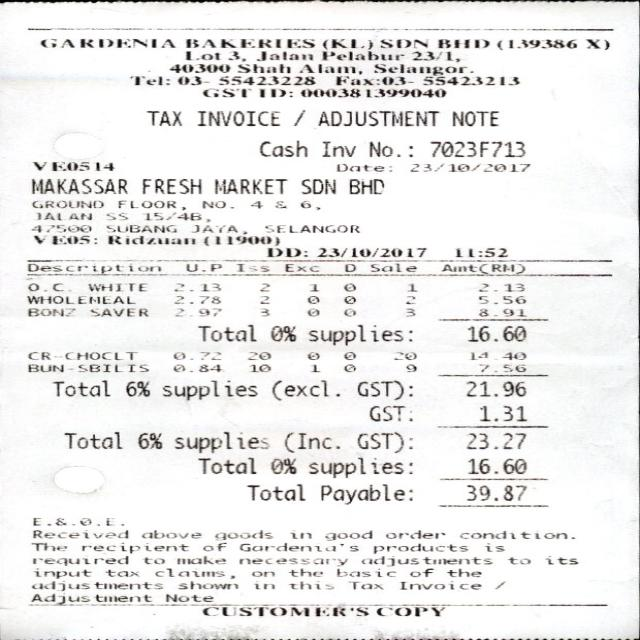text: (306, 324, 411, 344), (306, 457, 411, 476), (160, 379, 255, 399), (172, 431, 266, 451), (316, 110, 438, 125), (320, 482, 411, 502), (200, 606, 369, 616), (172, 73, 314, 84), (31, 177, 127, 193), (428, 140, 522, 156), (300, 87, 444, 97), (182, 35, 312, 46), (270, 379, 338, 399), (38, 36, 172, 46), (28, 262, 159, 272), (360, 555, 490, 565), (31, 580, 161, 590), (197, 110, 278, 125), (408, 161, 528, 171), (374, 62, 472, 74), (213, 178, 285, 194), (354, 431, 411, 451), (314, 247, 426, 257), (30, 593, 152, 602), (357, 379, 411, 399), (80, 542, 187, 552), (284, 432, 337, 452), (246, 482, 304, 500), (166, 60, 230, 76), (197, 324, 255, 341), (24, 294, 133, 303), (236, 542, 358, 550), (64, 430, 121, 447), (464, 380, 524, 396), (464, 432, 524, 448), (49, 379, 108, 395), (140, 177, 198, 193), (466, 457, 524, 473), (466, 484, 524, 500), (236, 557, 346, 565), (421, 75, 518, 84), (466, 325, 524, 340), (197, 457, 255, 472), (496, 38, 575, 49), (27, 351, 135, 359), (31, 528, 126, 537), (31, 555, 126, 564), (377, 604, 448, 616), (372, 543, 466, 552), (27, 364, 146, 371), (320, 50, 402, 60), (31, 160, 112, 170), (458, 530, 572, 537), (155, 567, 233, 577), (257, 139, 305, 155), (31, 516, 122, 524), (106, 235, 193, 243), (335, 75, 412, 84), (450, 110, 496, 125), (478, 405, 524, 420), (202, 235, 278, 244), (262, 224, 356, 231), (144, 211, 208, 221), (298, 63, 360, 73), (452, 246, 505, 257), (213, 529, 270, 539), (31, 234, 94, 243), (399, 581, 480, 588), (367, 405, 402, 421), (256, 50, 311, 60), (320, 140, 354, 156), (300, 178, 334, 194), (321, 36, 366, 48), (438, 37, 492, 47), (144, 110, 180, 125), (349, 177, 382, 193), (118, 200, 184, 208), (88, 307, 146, 316), (235, 62, 287, 72), (473, 307, 525, 317), (270, 454, 296, 474), (32, 568, 89, 577), (370, 261, 416, 272), (30, 200, 102, 207), (104, 224, 174, 231), (322, 529, 370, 539), (176, 580, 236, 588), (193, 224, 246, 233), (385, 529, 444, 537), (472, 350, 524, 359), (86, 282, 144, 290), (140, 528, 198, 536), (336, 568, 394, 576), (380, 37, 426, 47), (412, 50, 458, 60), (35, 211, 90, 219), (337, 162, 390, 170), (29, 224, 89, 231), (200, 88, 249, 96), (175, 555, 224, 563), (268, 325, 294, 340), (171, 282, 219, 290), (476, 294, 524, 302), (171, 295, 219, 303), (171, 351, 219, 359), (163, 594, 211, 602), (265, 247, 306, 256), (476, 282, 522, 290), (173, 308, 219, 316), (27, 308, 73, 316), (124, 380, 147, 396), (128, 75, 168, 84), (136, 432, 160, 447), (368, 140, 390, 156), (283, 262, 322, 271), (288, 580, 331, 588), (171, 364, 219, 371), (235, 262, 268, 272), (478, 364, 524, 371), (438, 262, 473, 271), (30, 541, 65, 550), (445, 567, 480, 576), (184, 50, 218, 59), (287, 567, 321, 576), (485, 262, 515, 272), (26, 282, 61, 290), (584, 38, 608, 49), (103, 568, 136, 576), (259, 88, 291, 96), (184, 263, 220, 270), (406, 567, 432, 576), (348, 581, 381, 588), (199, 200, 231, 207), (544, 556, 576, 563), (339, 261, 362, 270), (202, 541, 225, 550), (391, 351, 415, 359), (225, 50, 243, 60), (293, 109, 304, 125), (298, 200, 318, 208), (482, 542, 502, 550), (247, 351, 269, 358), (507, 556, 528, 563), (248, 364, 268, 371), (143, 556, 163, 563), (289, 532, 310, 538), (342, 283, 357, 291), (104, 213, 125, 218), (251, 570, 272, 575), (305, 294, 318, 302), (305, 351, 318, 359), (251, 583, 271, 588), (248, 200, 261, 207), (308, 282, 318, 291), (343, 294, 354, 302), (274, 200, 285, 207), (343, 308, 354, 315), (306, 308, 317, 315), (343, 351, 354, 358), (343, 364, 354, 371), (258, 282, 267, 290), (406, 282, 415, 290), (404, 364, 414, 371), (493, 581, 503, 588), (405, 294, 413, 302), (258, 295, 266, 303), (405, 308, 413, 316), (258, 308, 266, 315), (309, 364, 317, 371)
